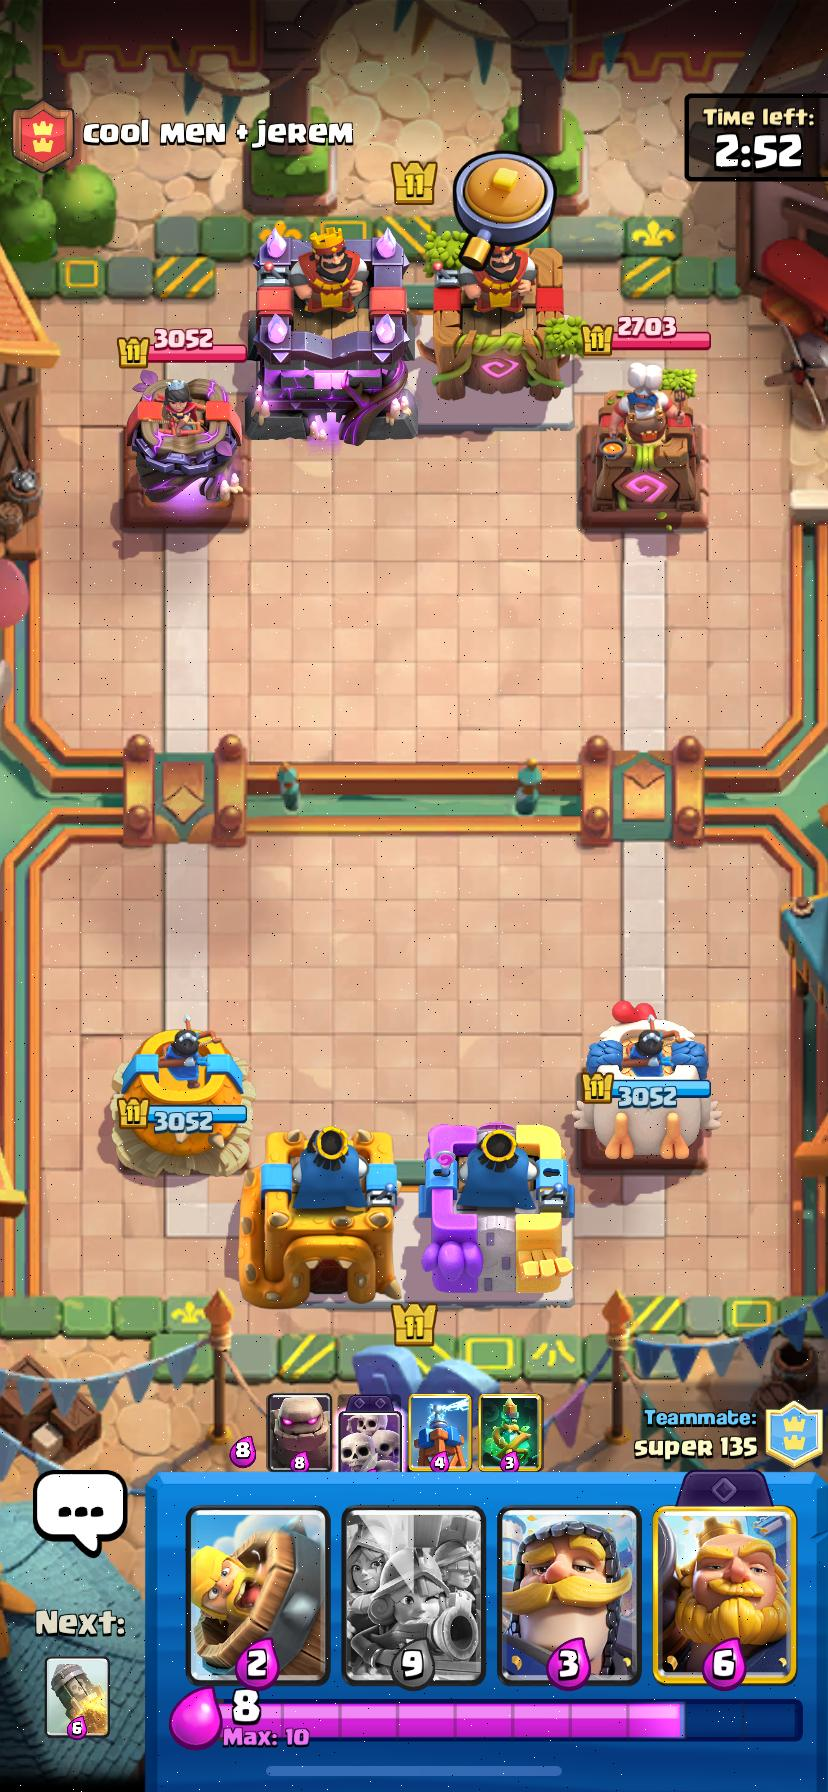EKingTower: (249, 227, 415, 443), (432, 245, 566, 400)
EnemyPanTower: (579, 365, 706, 529)
EnemyPrincessTower: (124, 373, 246, 526)
OwnKingTower: (240, 1126, 401, 1306), (417, 1122, 571, 1299)
OwnPrincessTower: (576, 1001, 710, 1167), (111, 1019, 253, 1174)
